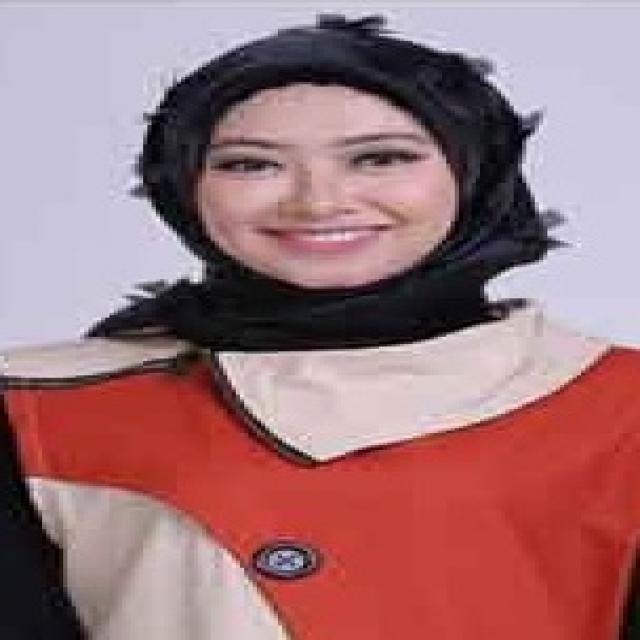head: (150, 21, 497, 315)
